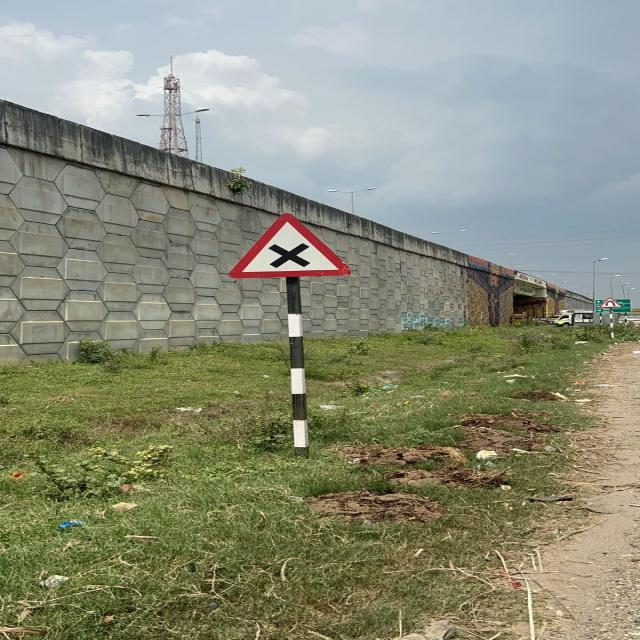Crossroads: (222, 206, 366, 287)
